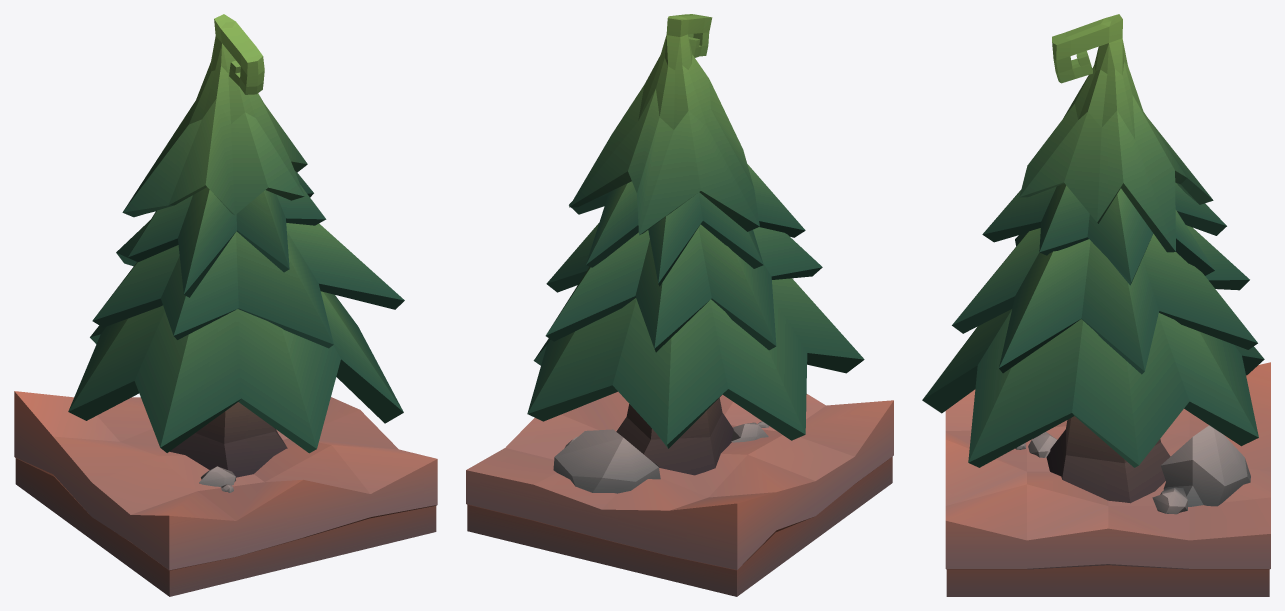
The model's file is firtree_withenvironment.obj.
3 renders of one model, left to right at view 1: azimuth 30°, elevation 25°; view 2: azimuth 150°, elevation 25°; view 3: azimuth 270°, elevation 25°, orthographic. The views are drawn at different scales.
Parts seen in each view (by area): view 1: ground, treetop.001, treetop.002, treetop.004, treetop.003, treetrunk, stone.001_stone.005; view 2: ground, treetop.001, treetop.004, treetop.002, treetop.003, stone.002, treetrunk; view 3: ground, treetop.001, treetop.002, treetop.004, treetop.003, treetrunk, stone.002, stone.000, stone.001_stone.005.
Boxes of the visible parts, bbox=[...] form: ground: bbox=[14, 391, 437, 596]; treetop.001: bbox=[68, 291, 403, 453]; treetop.002: bbox=[92, 220, 404, 348]; treetop.004: bbox=[122, 14, 307, 217]; treetop.003: bbox=[128, 171, 326, 297]; treetrunk: bbox=[170, 402, 287, 477]; stone.001_stone.005: bbox=[199, 466, 235, 486]; ground: bbox=[466, 391, 893, 596]; treetop.001: bbox=[527, 278, 864, 448]; treetop.004: bbox=[569, 14, 759, 235]; treetop.002: bbox=[545, 223, 822, 352]; treetop.003: bbox=[569, 164, 805, 286]; stone.002: bbox=[553, 429, 660, 493]; treetrunk: bbox=[616, 398, 733, 475]; ground: bbox=[945, 362, 1270, 596]; treetop.001: bbox=[922, 309, 1264, 467]; treetop.002: bbox=[952, 225, 1257, 374]; treetop.004: bbox=[1019, 14, 1213, 252]; treetop.003: bbox=[982, 182, 1226, 285]; treetrunk: bbox=[1046, 416, 1170, 503]; stone.002: bbox=[1160, 425, 1250, 506]; stone.000: bbox=[1152, 487, 1187, 514]; stone.001_stone.005: bbox=[1028, 432, 1057, 457].
Bounding box in the file's own units: 6.84 × 11.57 × 7.15.
